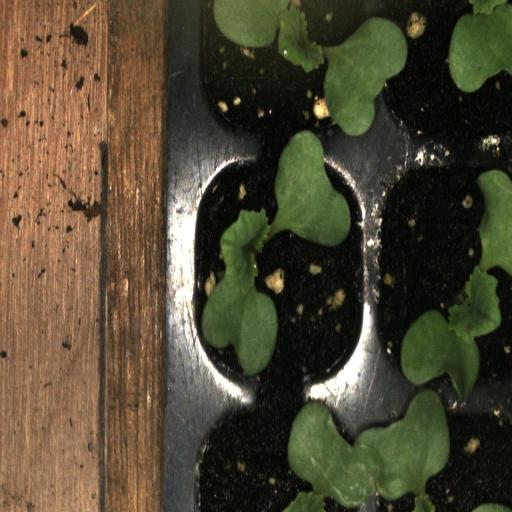Germinacao: (183, 144, 381, 408), (382, 143, 512, 408), (183, 0, 379, 143)
